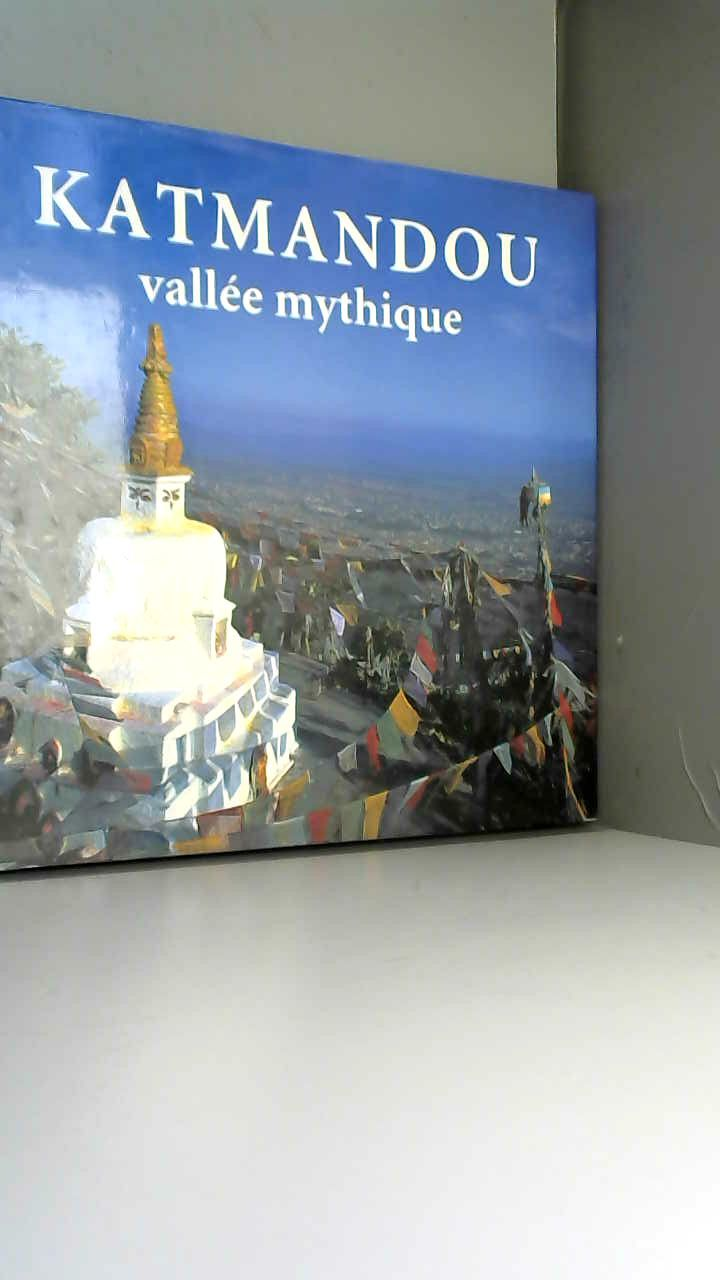book: (0, 75, 624, 905)
